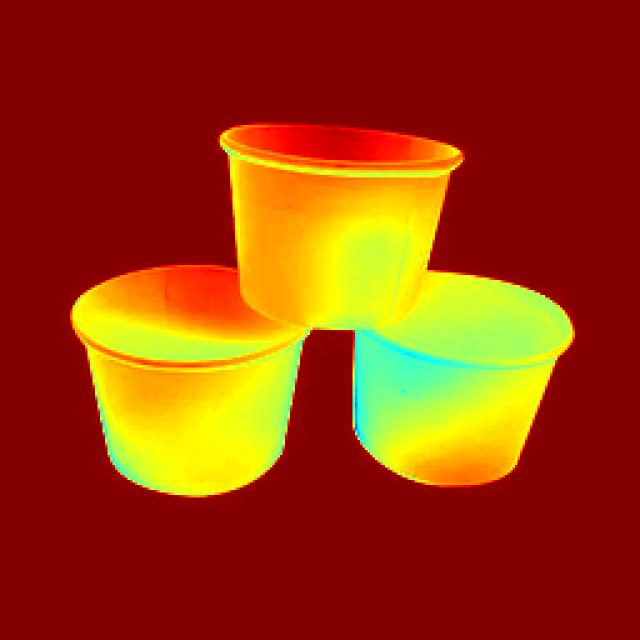Paper Cups: (74, 261, 300, 493), (214, 115, 446, 332), (370, 260, 568, 493)
